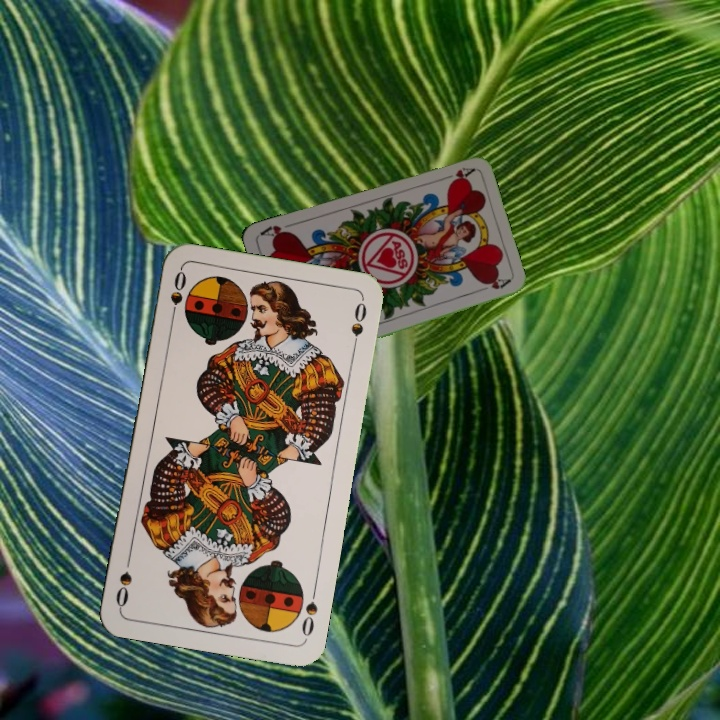HA: (436, 163, 476, 185)
SO: (297, 583, 320, 642), (166, 267, 189, 325)
